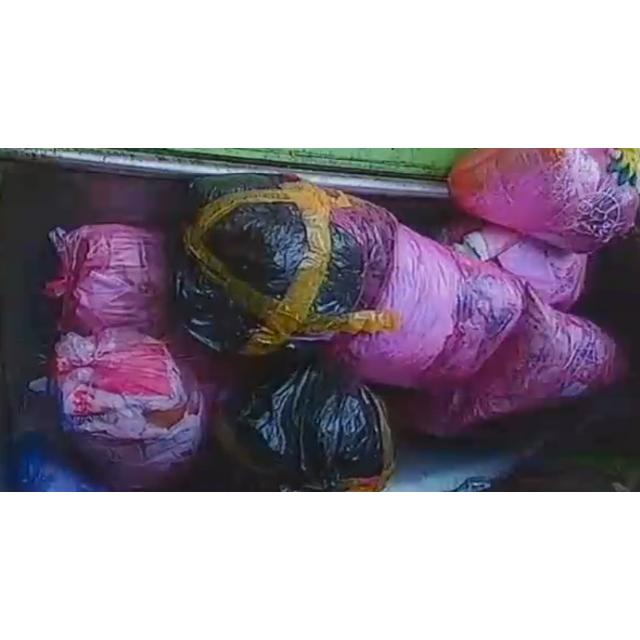other_trashbag: (178, 178, 526, 386), (405, 284, 615, 436), (55, 328, 202, 491), (450, 148, 639, 253), (49, 224, 168, 334), (452, 223, 588, 310)
